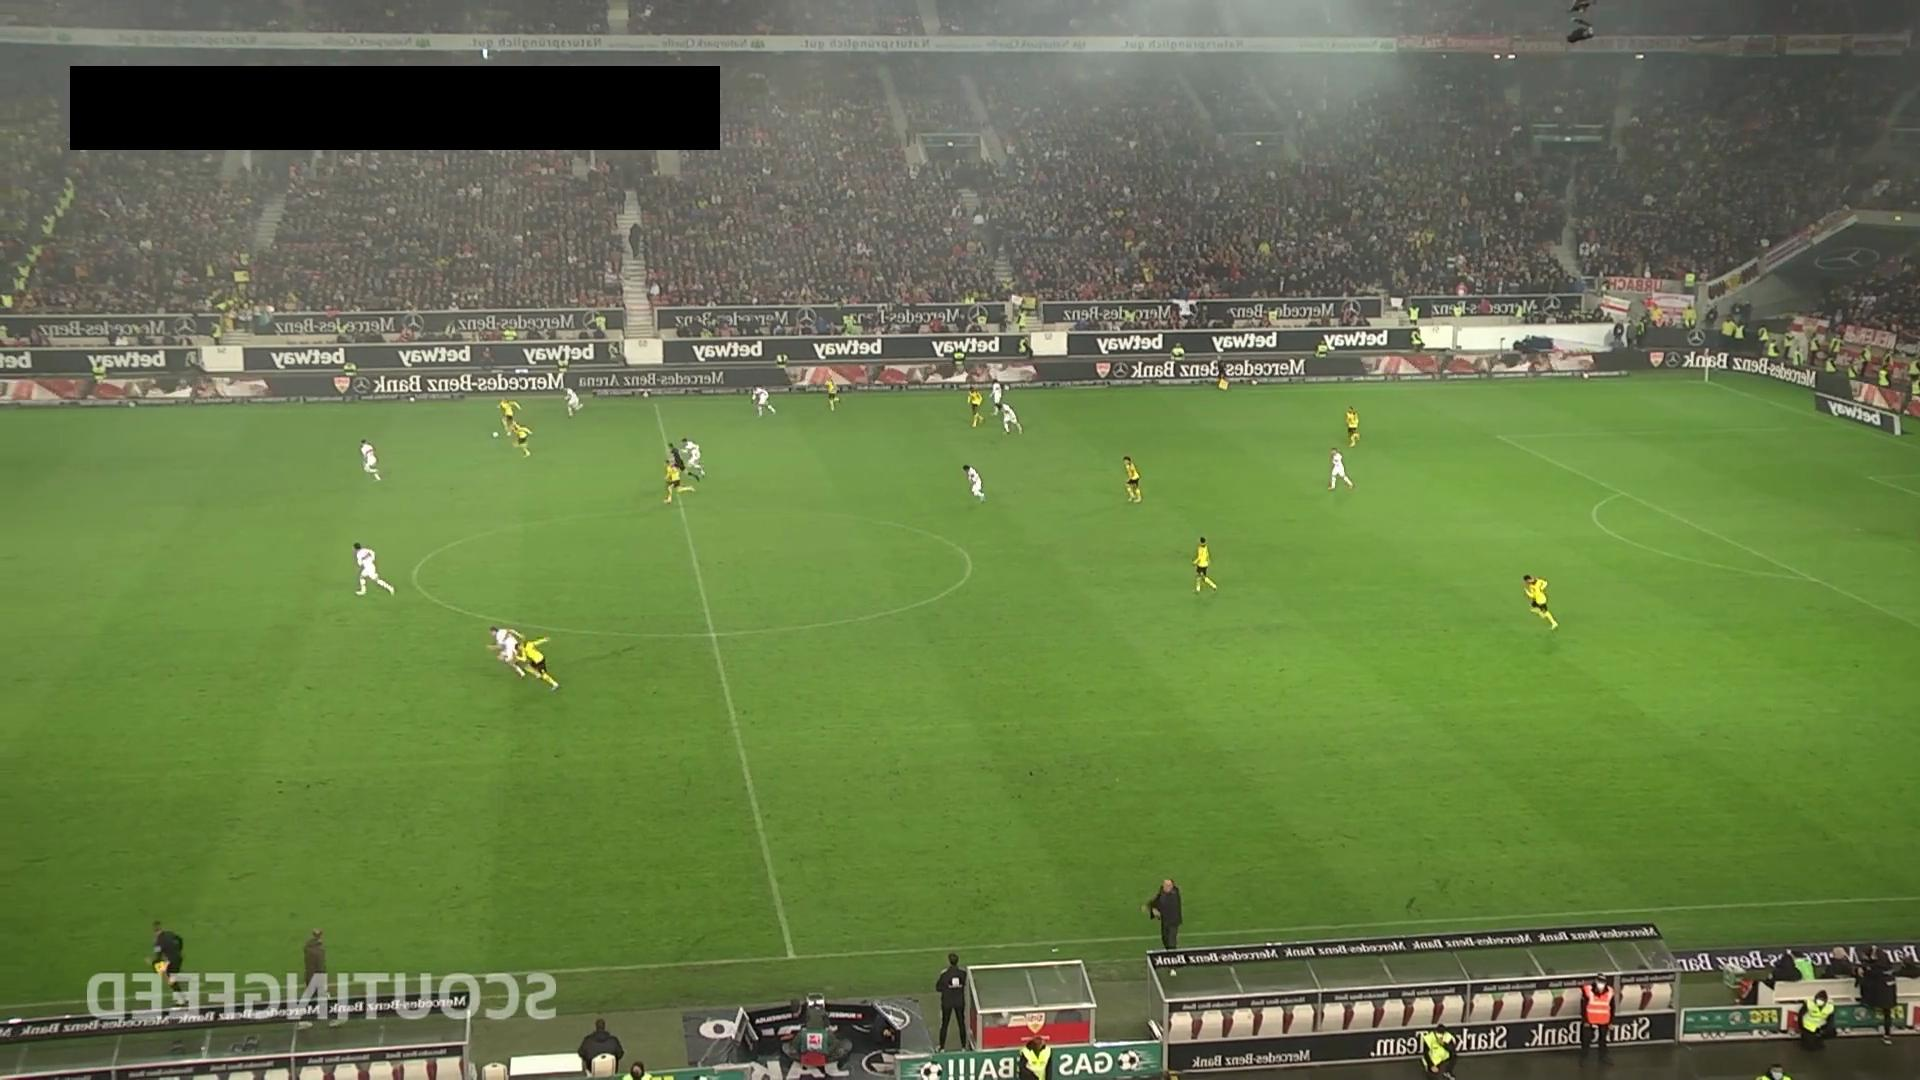ball: (492, 430, 500, 440)
player: (514, 625, 560, 693), (352, 541, 395, 597), (1522, 574, 1559, 630), (1192, 536, 1217, 595), (1327, 447, 1354, 491), (496, 395, 523, 438), (680, 438, 705, 481), (1122, 455, 1143, 504), (360, 439, 382, 481), (963, 464, 986, 503), (751, 385, 777, 417), (510, 420, 532, 457), (664, 459, 682, 504), (997, 402, 1022, 434), (967, 386, 983, 427), (1345, 404, 1360, 447), (564, 387, 582, 418), (825, 379, 839, 411), (991, 379, 1004, 413)
referee: (146, 919, 188, 1024), (665, 442, 699, 482), (1213, 352, 1232, 394)
